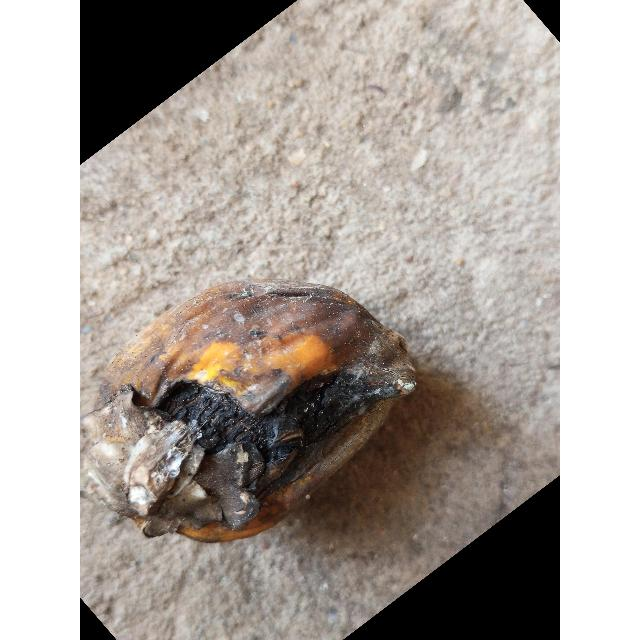damaged: (83, 283, 416, 541)
